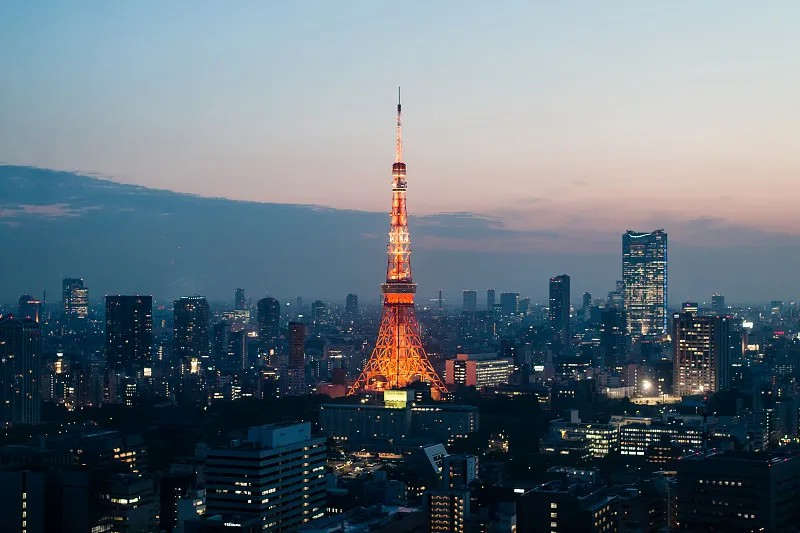Tokyo: (347, 85, 452, 396)
